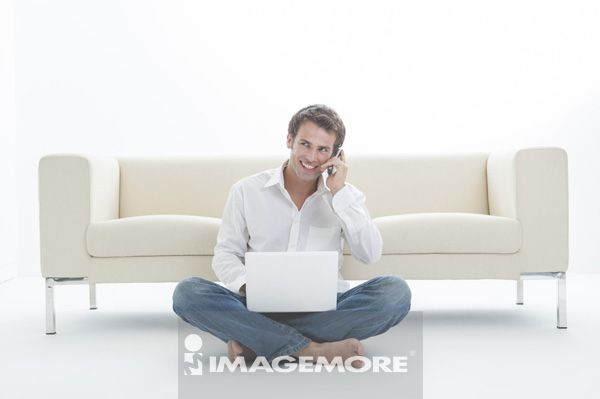talk: (291, 136, 346, 190)
